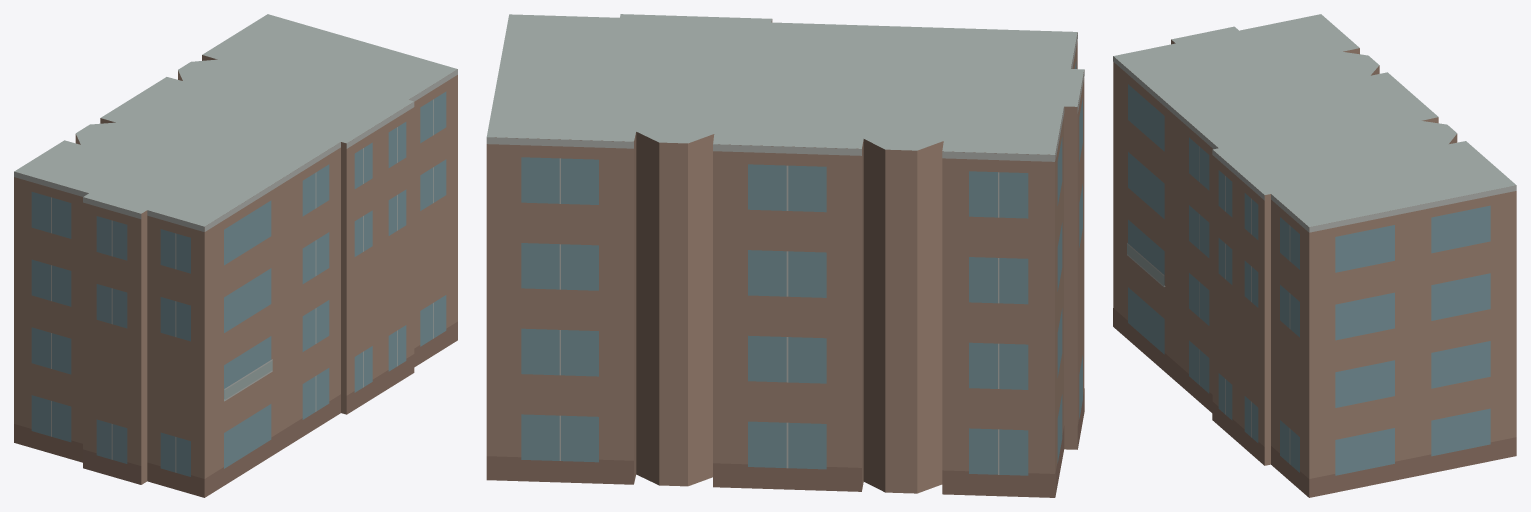
File: survey-upis-33014596.glb
The picture shows the model from 3 angles, left to right: view 1: azimuth 30°, elevation 25°; view 2: azimuth 150°, elevation 25°; view 3: azimuth 270°, elevation 25°; orthographic projection. The views are drawn at different scales.
Parts seen in each view (by area): view 1: survey-upis-33014596.tmp; view 2: survey-upis-33014596.tmp; view 3: survey-upis-33014596.tmp.
Part boxes in pixels (x1=…): survey-upis-33014596.tmp: x1=14, y1=14, x2=457, y2=497; survey-upis-33014596.tmp: x1=486, y1=14, x2=1084, y2=497; survey-upis-33014596.tmp: x1=1113, y1=14, x2=1516, y2=497.
Bounding box in the file's own units: 20.28 × 12 × 16.22.
